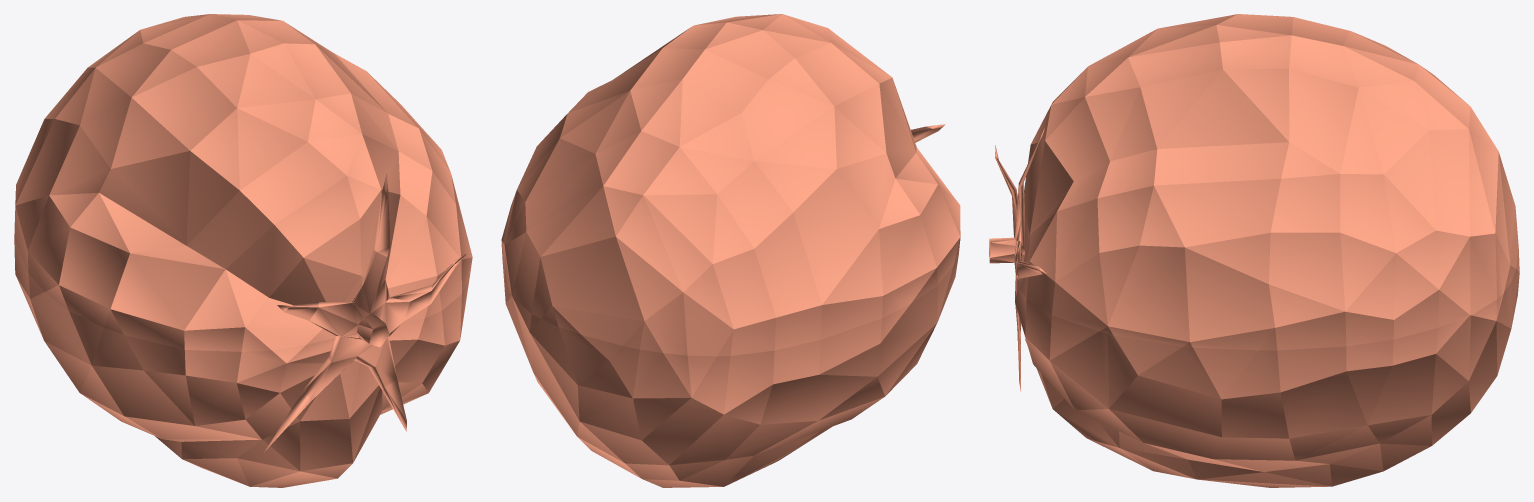
Rendered from MeshTomatoC3Mesh_0.obj.
The picture shows the model from 3 angles, left to right: view 1: azimuth 30°, elevation 25°; view 2: azimuth 150°, elevation 25°; view 3: azimuth 270°, elevation 25°; orthographic projection. The views are drawn at different scales.
Visible parts, largest first — view 1: TomatoC3Mesh; view 2: TomatoC3Mesh; view 3: TomatoC3Mesh.
Boxes of the visible parts, x1,y1,x2,y2 form: TomatoC3Mesh: (14, 14, 472, 487); TomatoC3Mesh: (501, 14, 960, 487); TomatoC3Mesh: (989, 14, 1519, 487).
Size of the model in its own units: 0.1159 by 0.1231 by 0.1322.
